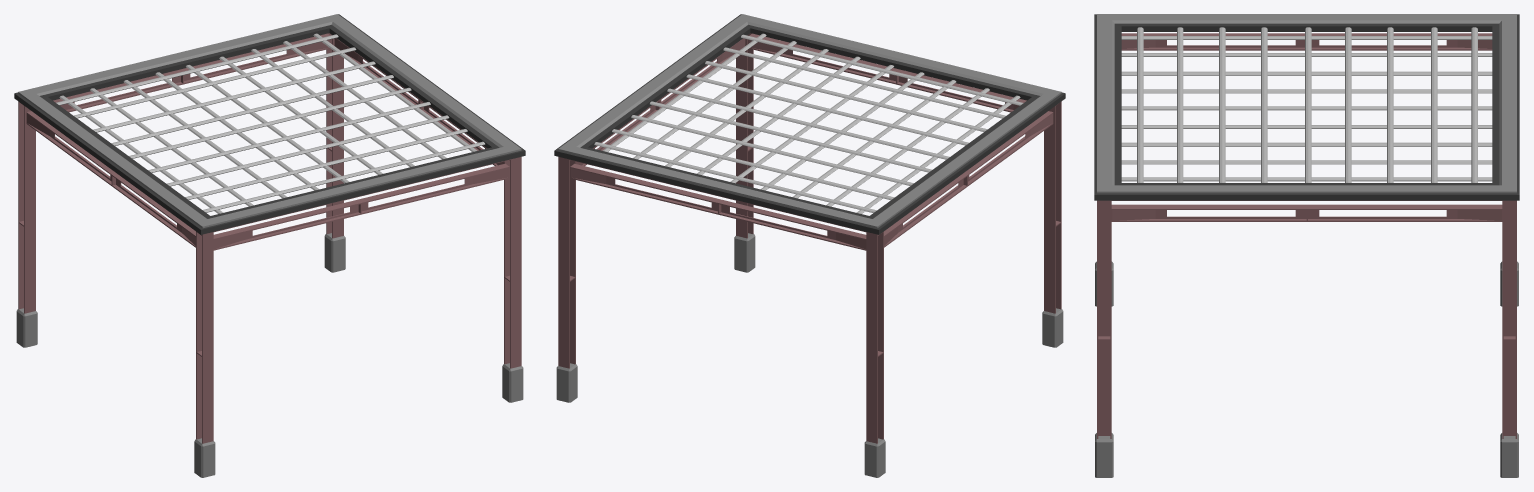
File: Platform.fbx
3 views of the same model, side by side, from view 1: azimuth 30°, elevation 25°; view 2: azimuth 150°, elevation 25°; view 3: azimuth 270°, elevation 25° (orthographic). The views are drawn at different scales.
Visible parts, largest first — view 1: Cube; view 2: Cube; view 3: Cube.
Boxes of the visible parts, x1=… form: Cube: x1=14, y1=14, x2=525, y2=477; Cube: x1=554, y1=14, x2=1065, y2=477; Cube: x1=1094, y1=14, x2=1519, y2=477.
Size of the model in its own units: 2035 by 1500 by 2026.
